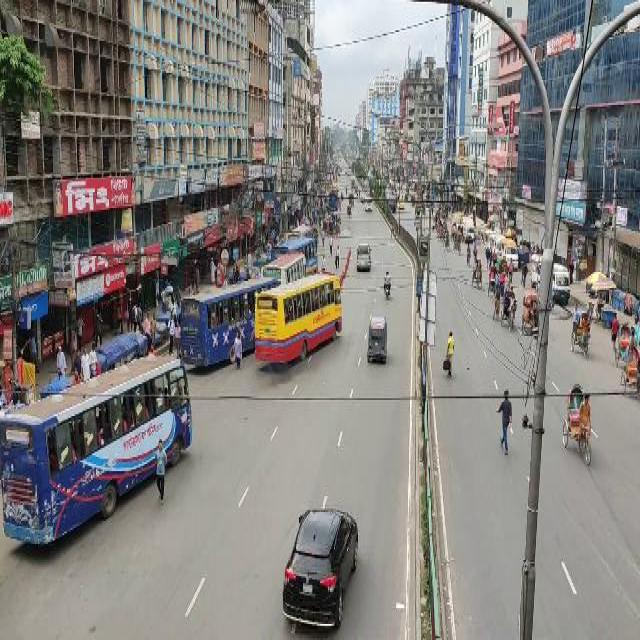10: (382, 268, 390, 297)
13: (560, 380, 594, 466), (618, 342, 640, 394), (569, 309, 591, 359), (614, 322, 634, 368), (500, 286, 514, 329), (470, 258, 482, 290)
15: (281, 500, 361, 630)
17: (365, 312, 387, 364)
7: (552, 262, 570, 307), (499, 235, 518, 273)
9: (354, 241, 372, 271)
Truck: (0, 350, 194, 553), (176, 274, 280, 372), (252, 268, 342, 364), (268, 233, 318, 274), (258, 251, 308, 286)
